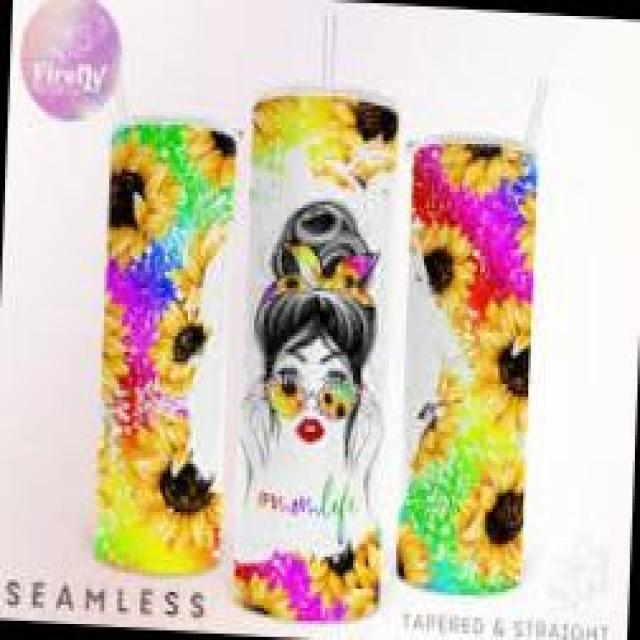bottle: (225, 61, 415, 637), (83, 109, 250, 586), (388, 121, 548, 598)
